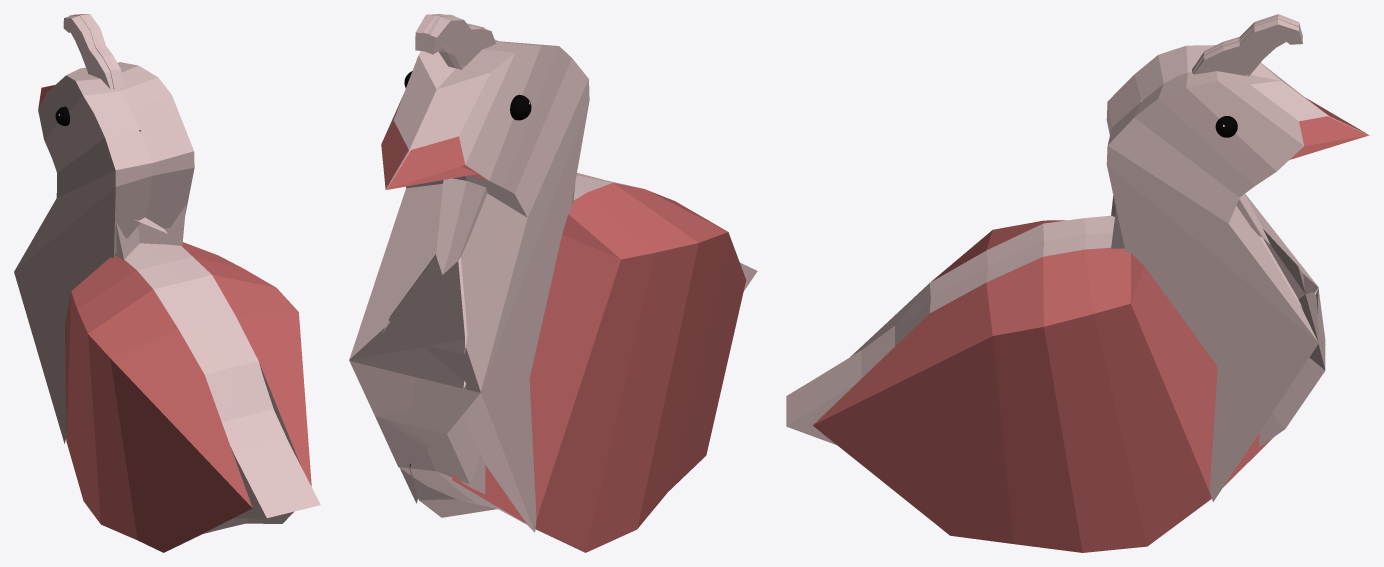
File: duck8.fbx
3 renders of one model, left to right at view 1: azimuth 30°, elevation 25°; view 2: azimuth 150°, elevation 25°; view 3: azimuth 270°, elevation 25°, orthographic. The views are drawn at different scales.
Parts seen in each view (by area): view 1: Plane; view 2: Plane; view 3: Plane.
Part boxes in pixels (<box>): Plane: <box>14,14,320,552</box>; Plane: <box>349,14,757,552</box>; Plane: <box>786,14,1369,552</box>.
Size of the model in its own units: 284 by 620 by 658.
